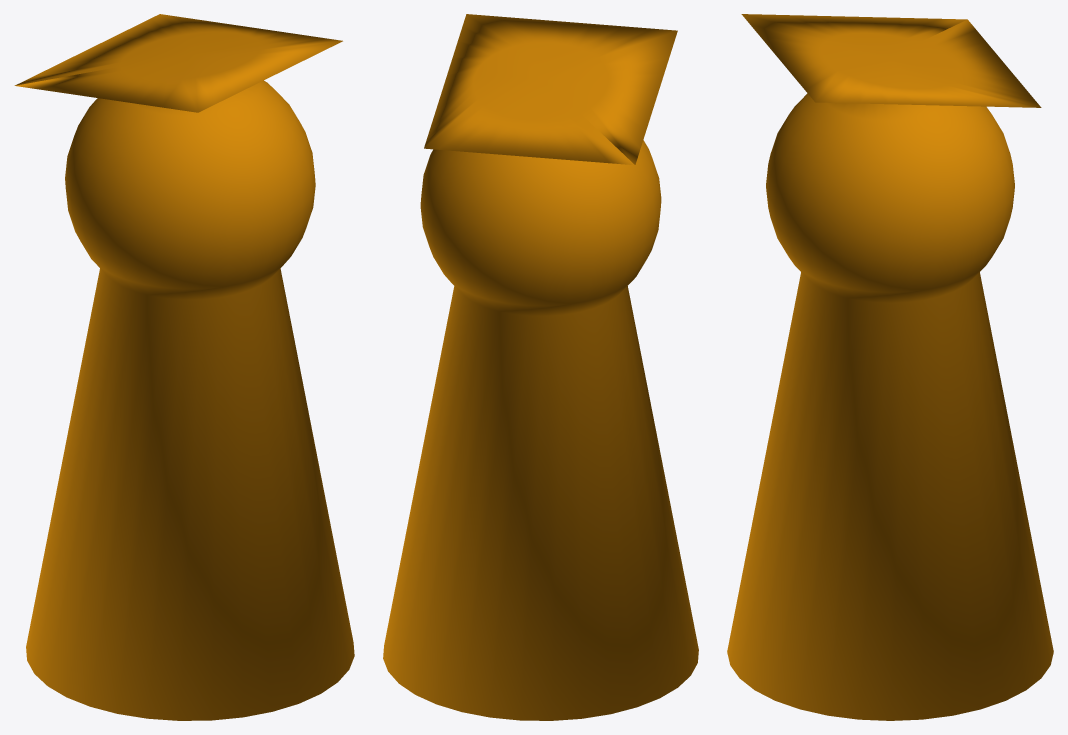
The model's file is Schorsch.fbx.
3 views of the same model, side by side, from view 1: azimuth 30°, elevation 25°; view 2: azimuth 150°, elevation 25°; view 3: azimuth 270°, elevation 25° (orthographic). The views are drawn at different scales.
Visible parts, largest first — view 1: Sphere; view 2: Sphere; view 3: Sphere.
Part boxes in pixels (left/top/right/bottom): Sphere: left=14, top=14, right=354, bottom=720; Sphere: left=383, top=14, right=698, bottom=720; Sphere: left=727, top=14, right=1053, bottom=720.
Size of the model in its own units: 262 by 536 by 262.
